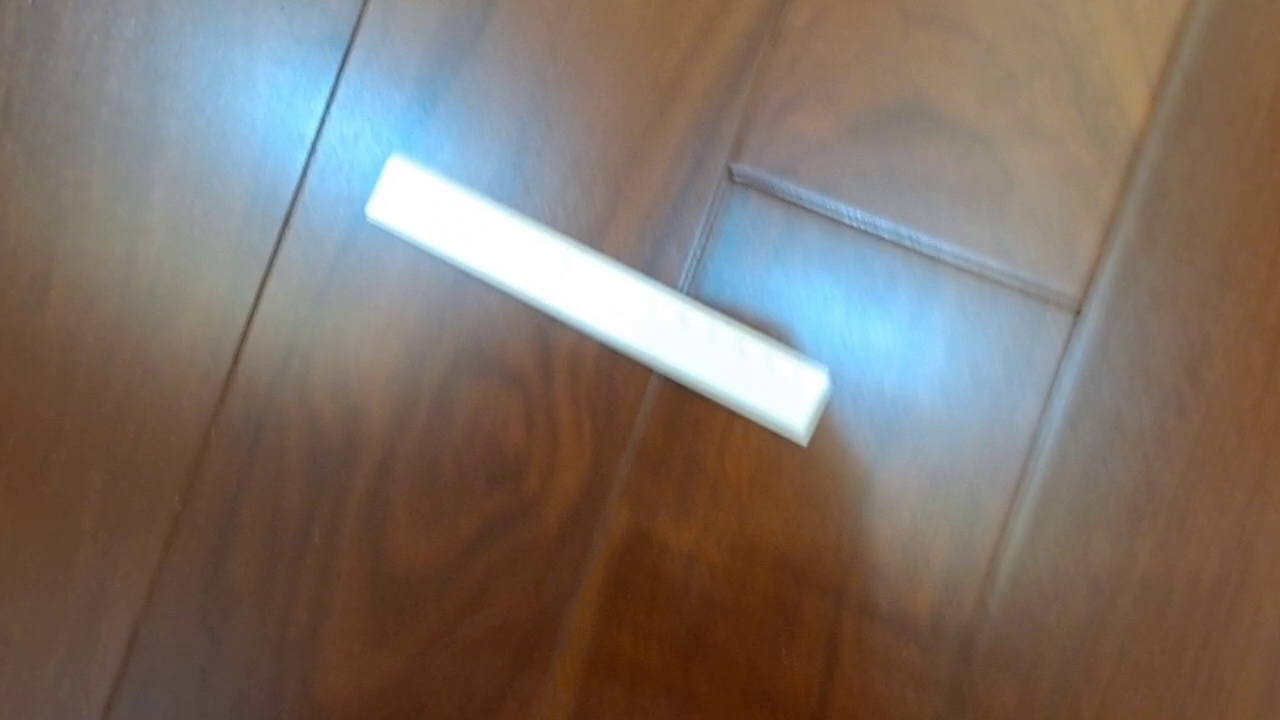ruler: (362, 148, 834, 449)
